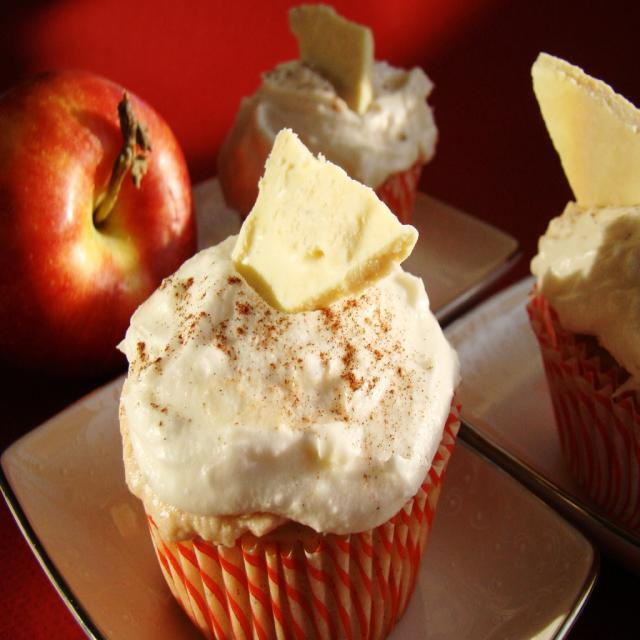Muffin: (121, 167, 466, 629), (527, 51, 639, 527), (216, 2, 441, 234)
